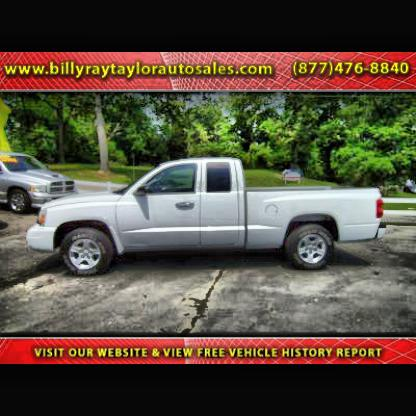Dodge Dakota Club Cab 2007: (24, 156, 388, 282)
